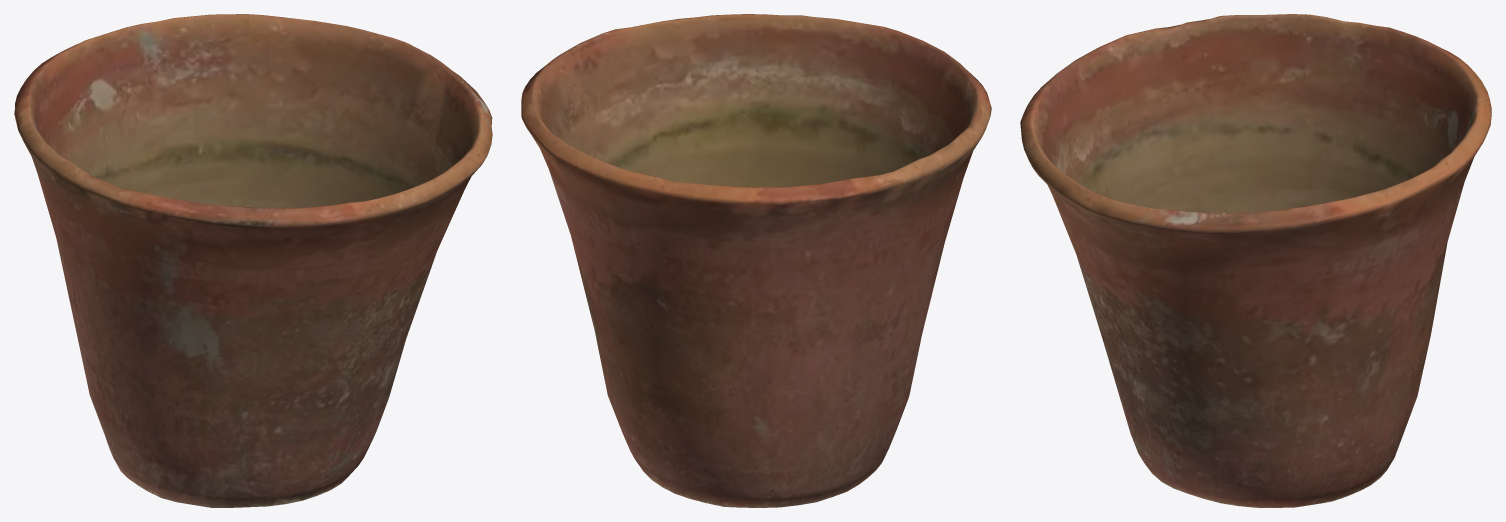
Rendered from planter_pot_clay.glb.
3 views of the same model, side by side, from view 1: azimuth 30°, elevation 25°; view 2: azimuth 150°, elevation 25°; view 3: azimuth 270°, elevation 25° (orthographic).
Parts seen in each view (by area): view 1: planter_pot_clay; view 2: planter_pot_clay; view 3: planter_pot_clay.
Part boxes in pixels (left/top/right/bottom): planter_pot_clay: left=14, top=14, right=492, bottom=507; planter_pot_clay: left=521, top=14, right=991, bottom=507; planter_pot_clay: left=1020, top=14, right=1491, bottom=507.
Bounding box in the file's own units: 0.266 × 0.2219 × 0.2635.
Materials: 1 (1 with a texture image).
